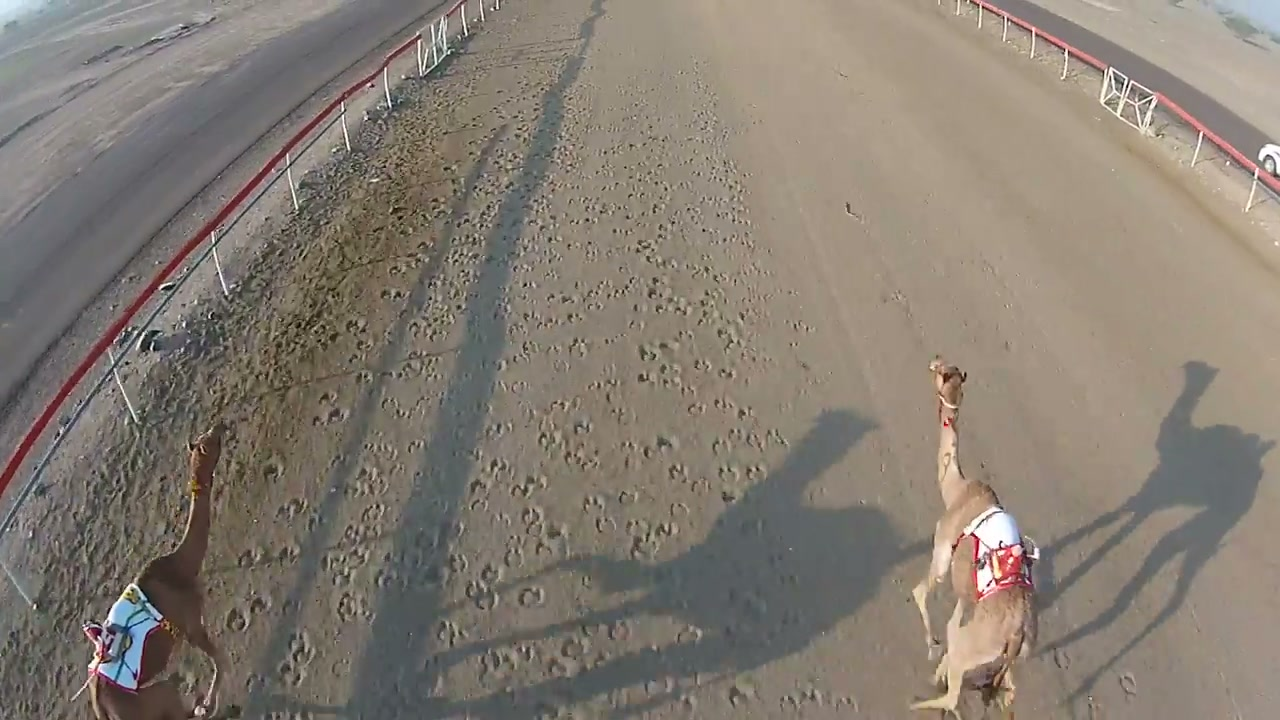animal_footprint: (437, 92, 779, 717), (226, 147, 495, 702)
